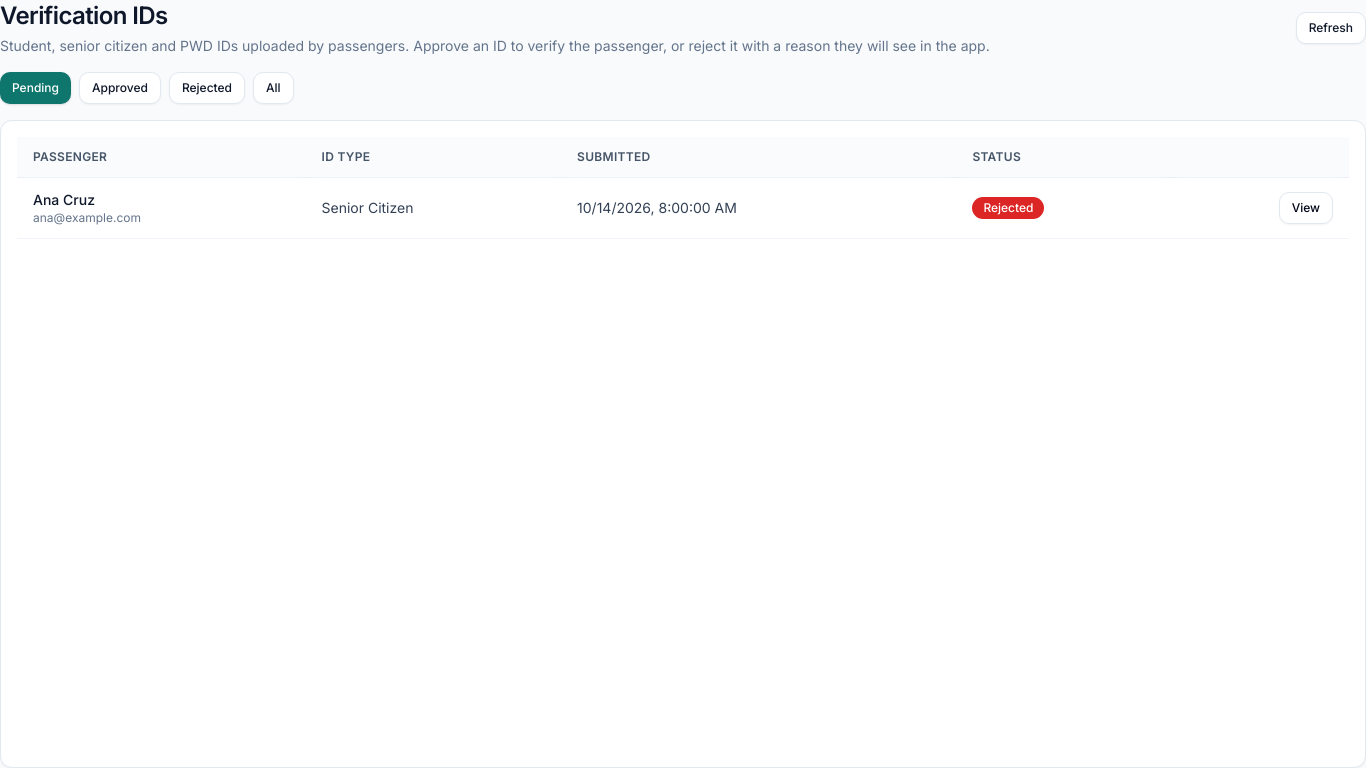
Test: VerificationIdsPage › shows the outcome and no actions for a reviewed submission
Click the button "View" at [1306, 208], box [1279,192,1333,224]
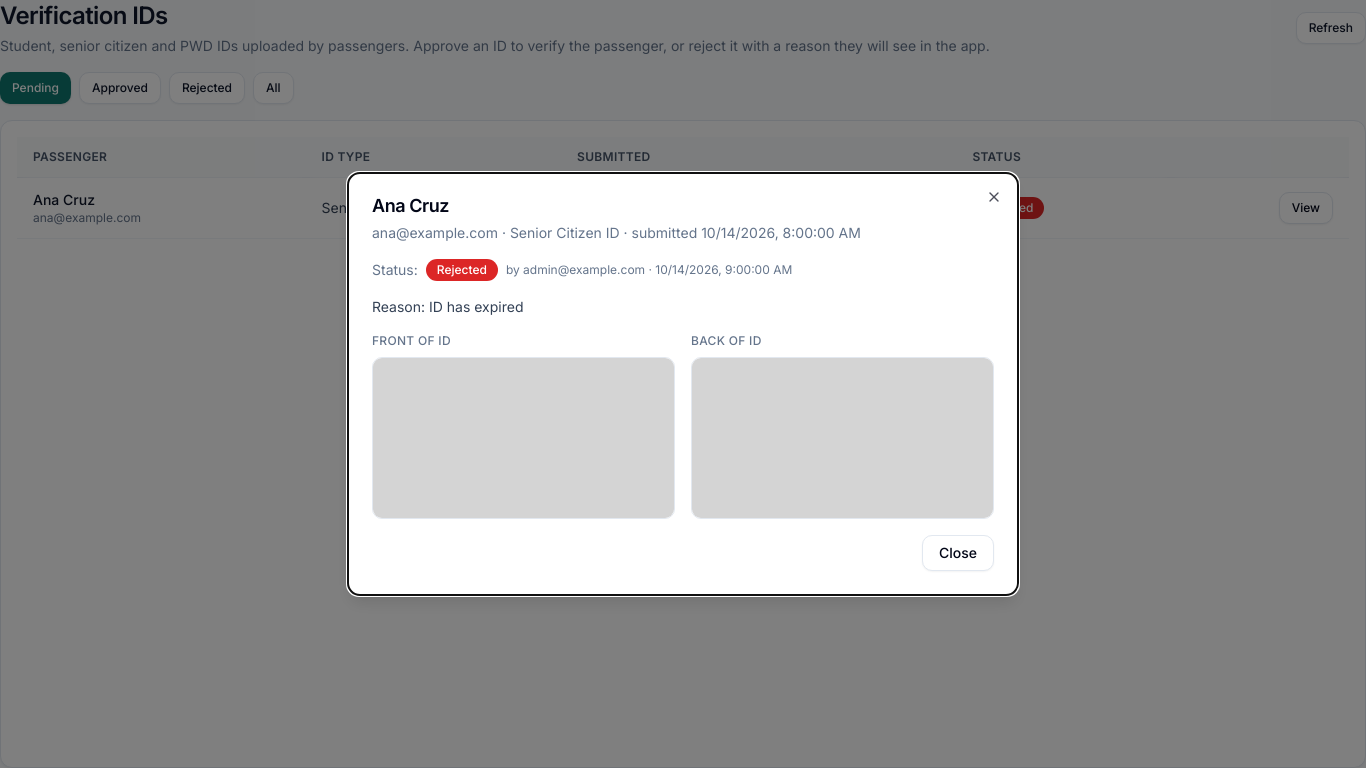
Now the text "Reason: ID has expired" is shown, box [372,298,524,315]
Now the text "by admin@example.com · 10/14/2026, 9:00:00 AM" is shown, box [506,262,792,278]
